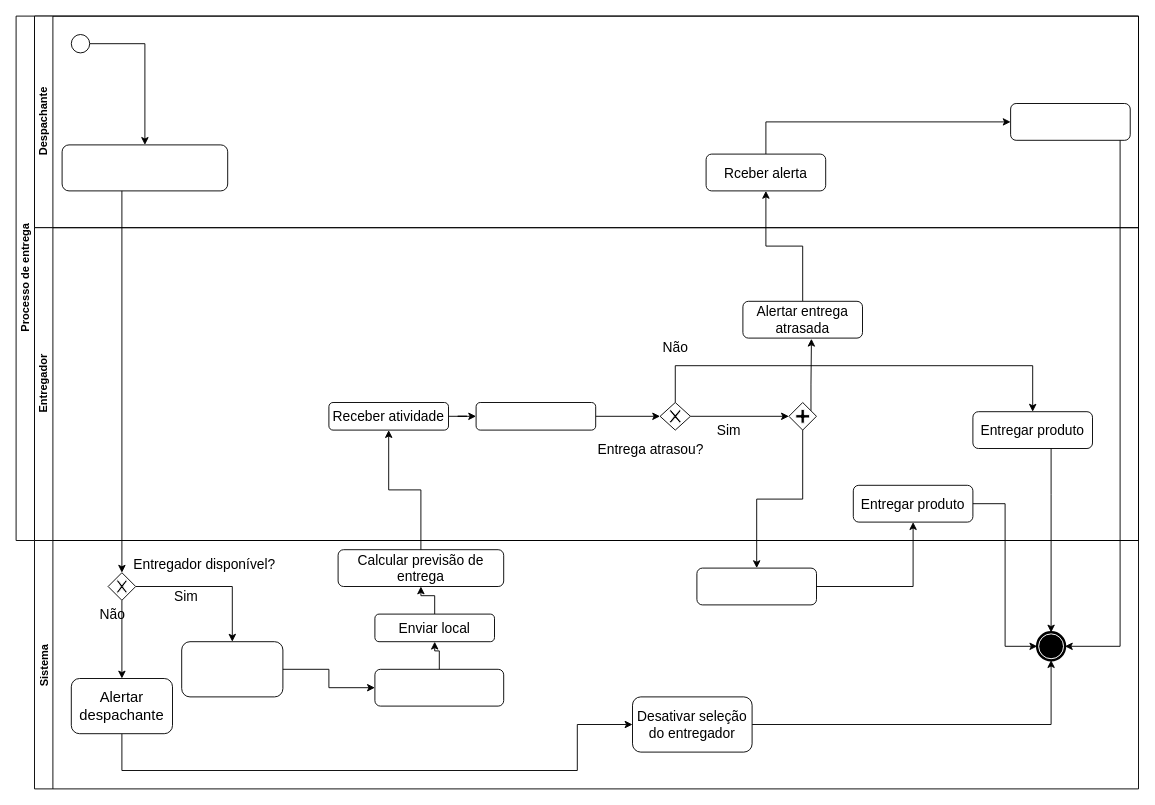
Some shapes in this 1155 by 805 pixel diagram are drawn without their labels. The shapes that lost their labels are listed below. From the top down, each one's centre as x and y in pixels, then its label:
the point at 1070,121: Notificar mercado
the point at 144,167: Selecionar entregador
the point at 535,416: Sair para entrega
the point at 756,586: Atribuir entregador mais próximo
the point at 232,669: Atribuir atividade
the point at 439,687: Notificar o entregador
